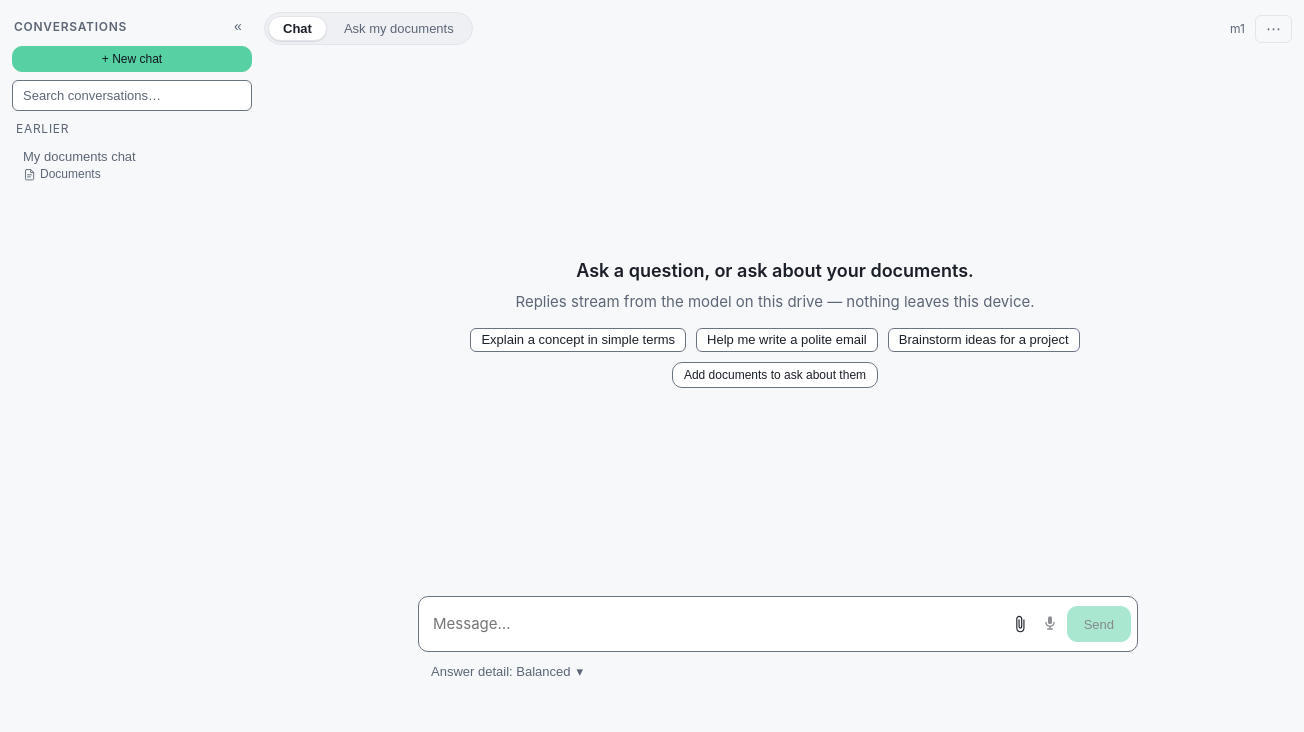
Test: ChatScreen — the #80 offer accept flow (#135) › #132: with the offered skill REMOVED entirely, the stored title still renders and the row is disabled
The image size is (1304, 732).
Click the text "My documents chat" at (79,156), box [23,149,136,164]
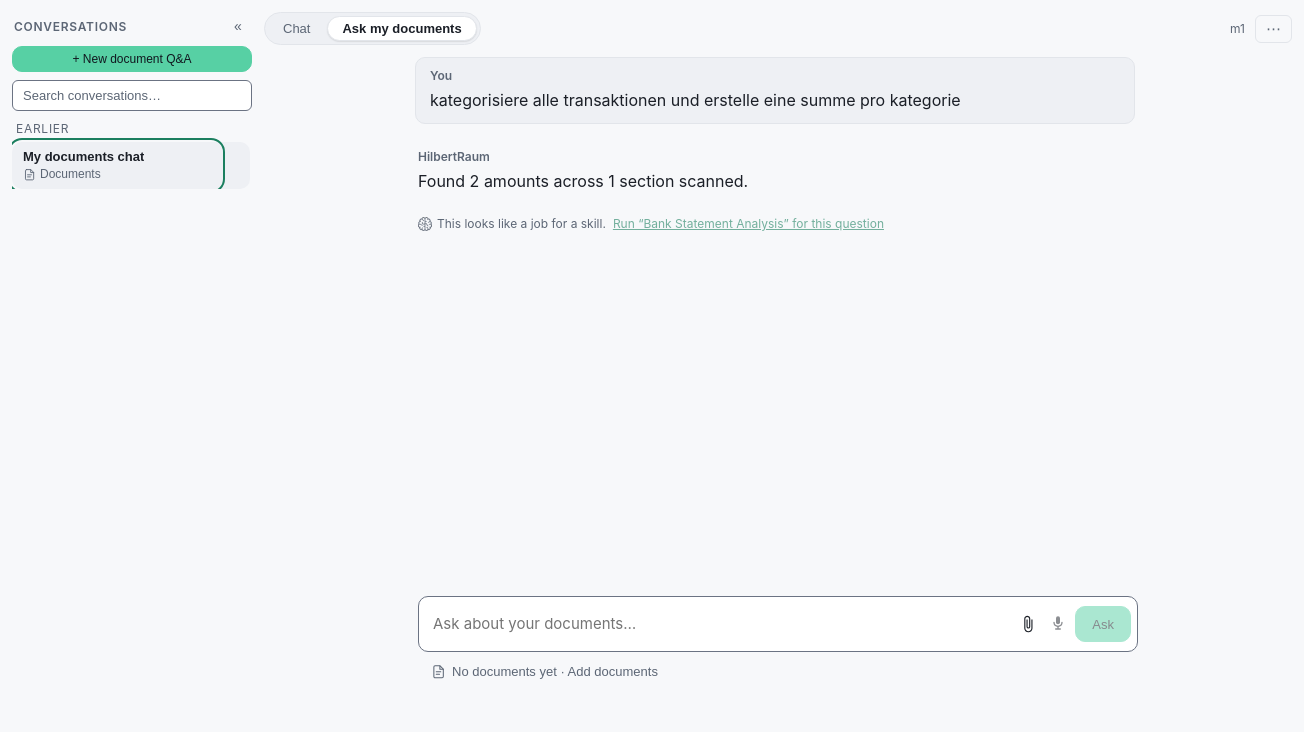
Result: the text "Found 2 amounts across 1 section scanned." is shown at [418,171,748,191]
